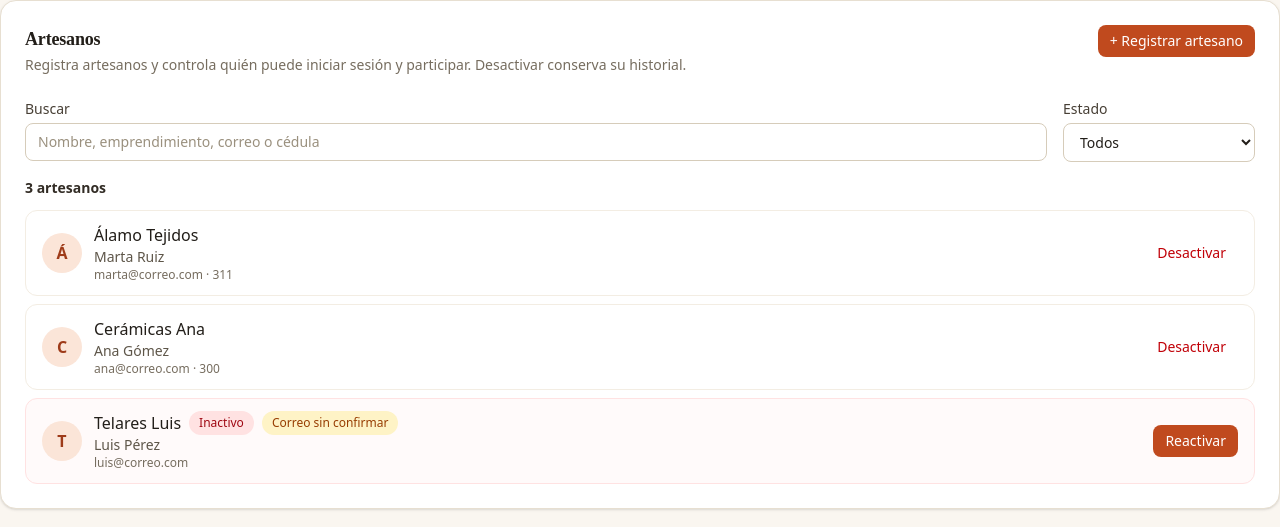
Test: GestionArtesanos: búsqueda y filtro › busca sin importar mayúsculas ni tildes
The width and height of the screenshot is (1280, 527).
In the search field labelled "Buscar": (536, 142) [25,123,1047,161], type "ceramicas"
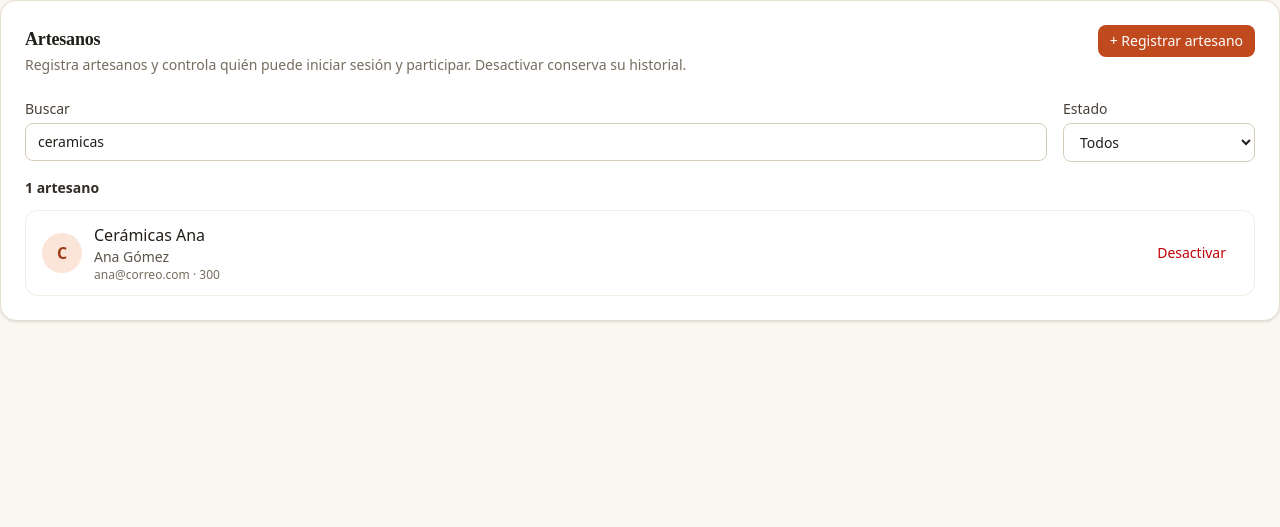
Expected: the text "Cerámicas Ana" is shown, [94,223,205,247]
Expected: the text "Telares Luis" is gone
Expected: the text "1 artesano" is shown, [25,178,99,197]
